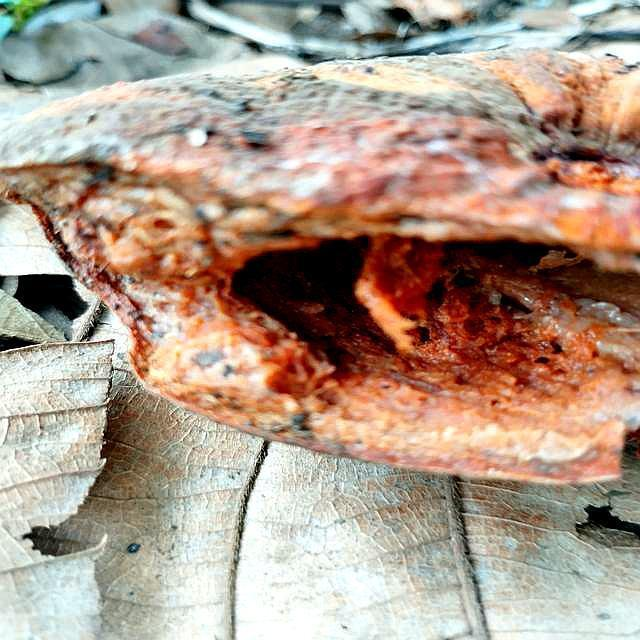Biodegradable: (1, 57, 640, 481)
